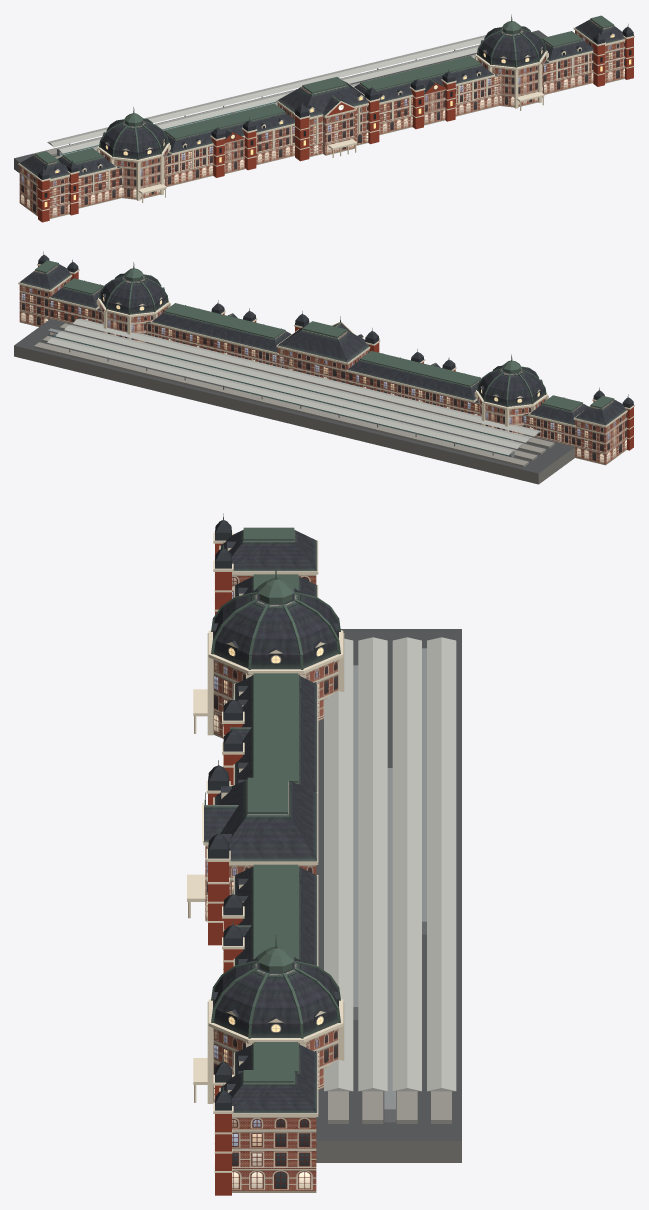
The model's file is tokyo_station.glb.
The picture shows the model from 3 angles, top to bottom: view 1: azimuth 30°, elevation 25°; view 2: azimuth 150°, elevation 25°; view 3: azimuth 270°, elevation 25°; orthographic projection. The views are drawn at different scales.
Visible parts, largest first — view 1: tokyo_station; view 2: tokyo_station; view 3: tokyo_station.
Boxes of the visible parts, left/top/right/bottom form: tokyo_station: left=14, top=14, right=634, bottom=222; tokyo_station: left=14, top=251, right=634, bottom=484; tokyo_station: left=187, top=513, right=461, bottom=1195.
Size of the model in its own units: 339 by 43 by 68.
2 materials, 2 textured.
